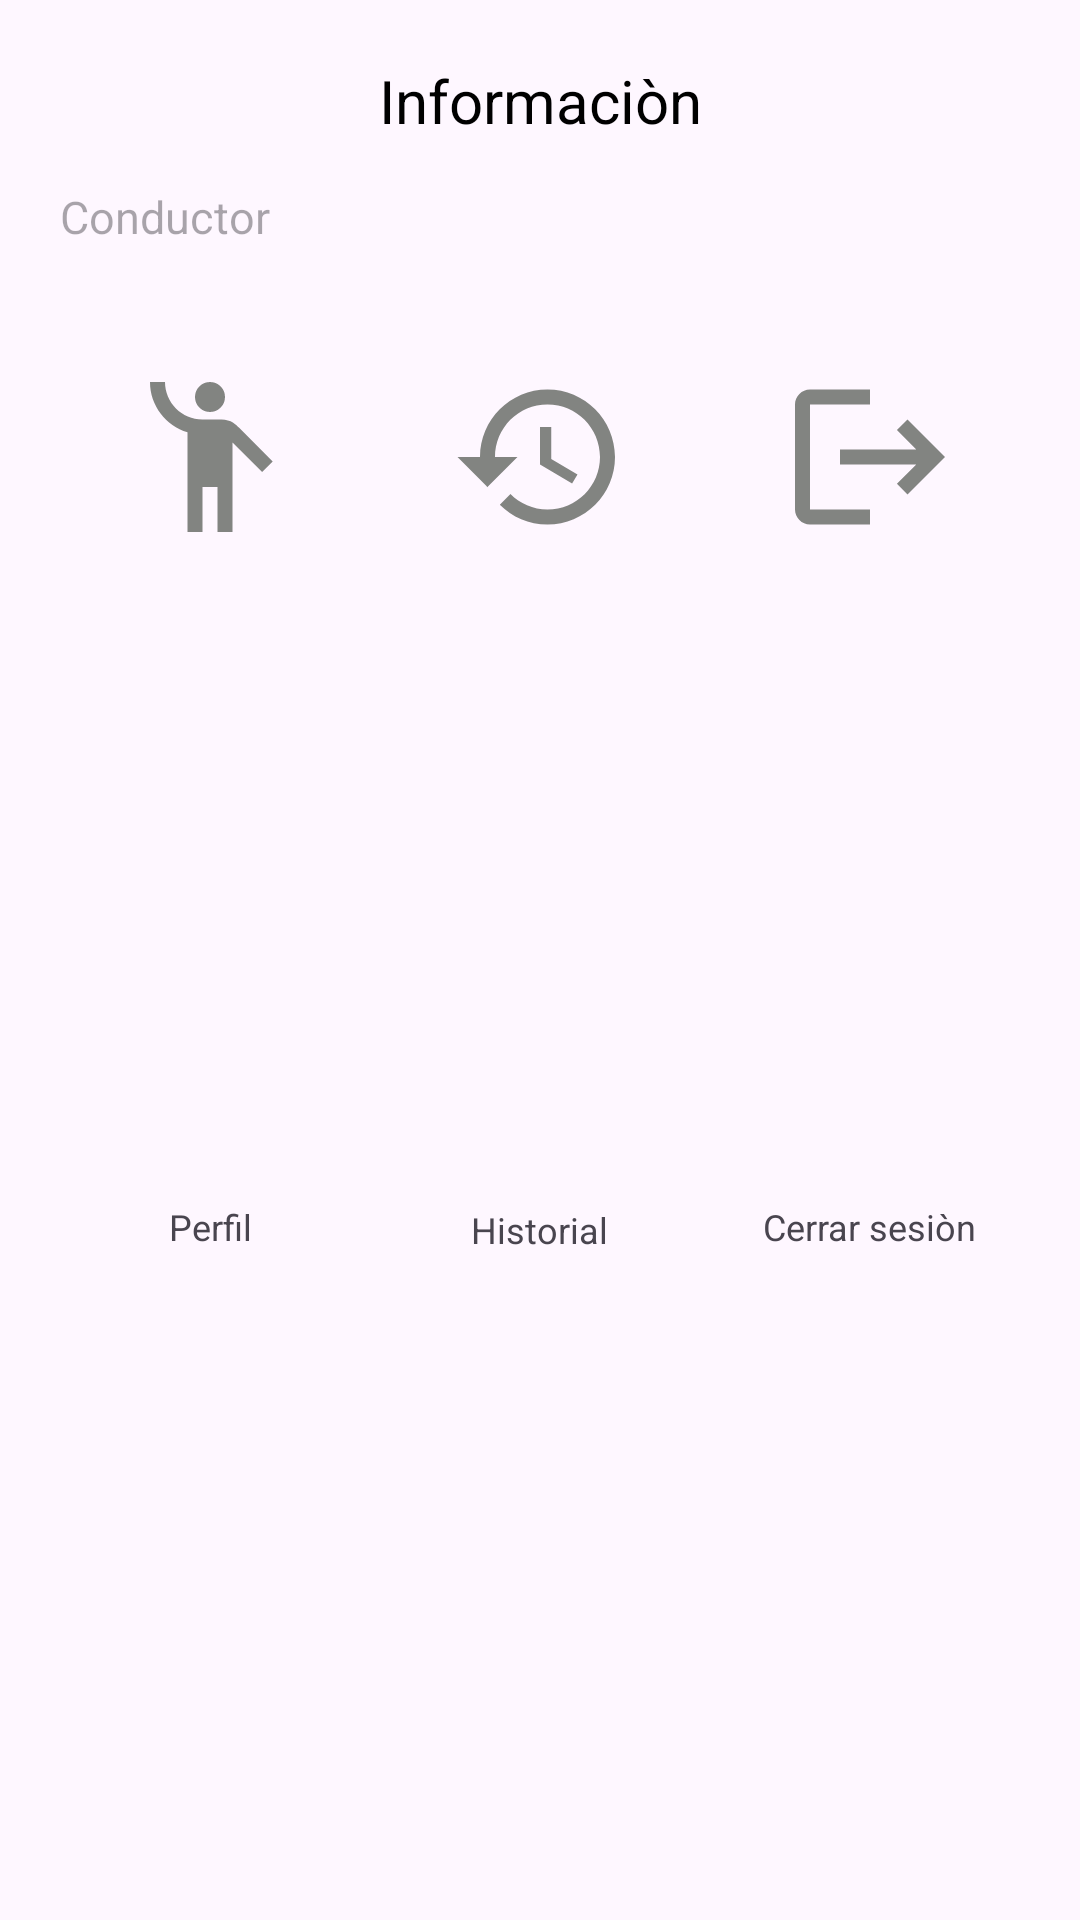

Screen size 1080 x 1920. Icon name, then its center in pixels as point (x, y):
hist menu: point (536, 457)
person menu: point (211, 457)
